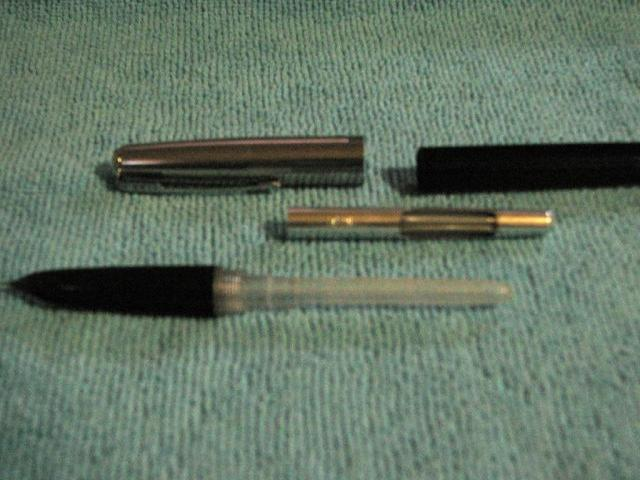PEN: (0, 115, 640, 341)
